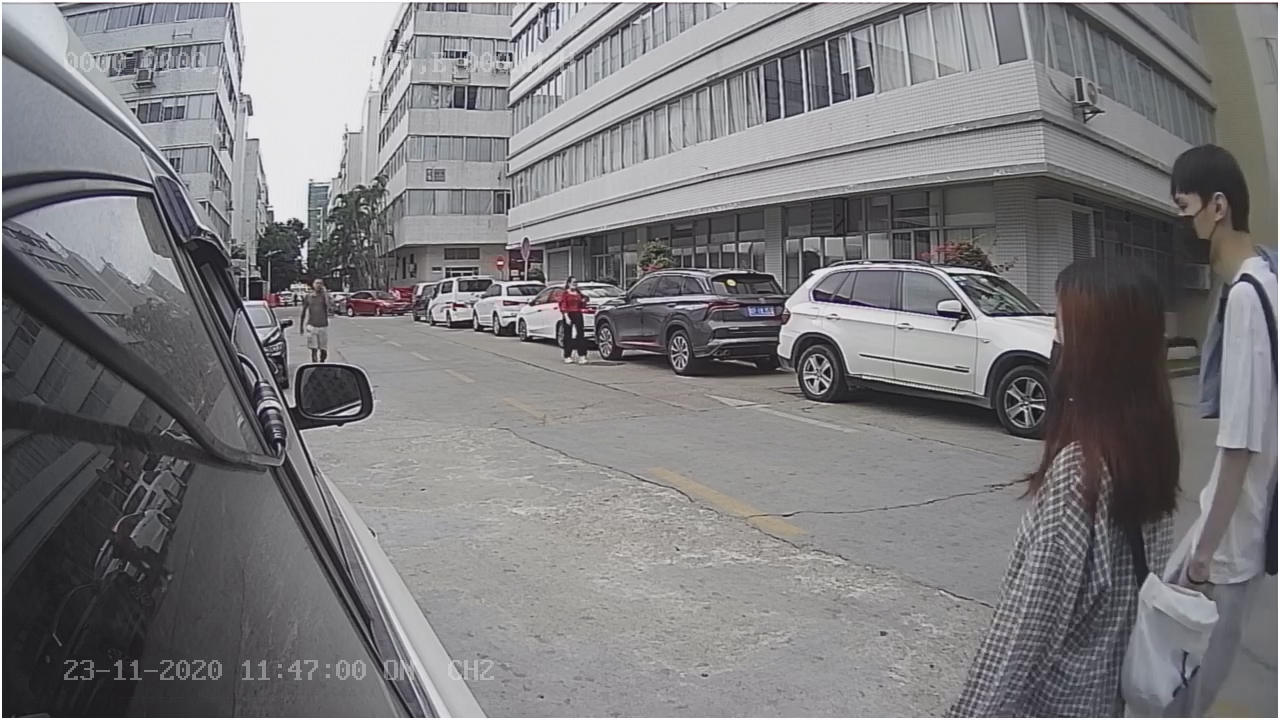person: (983, 253, 1178, 619)
